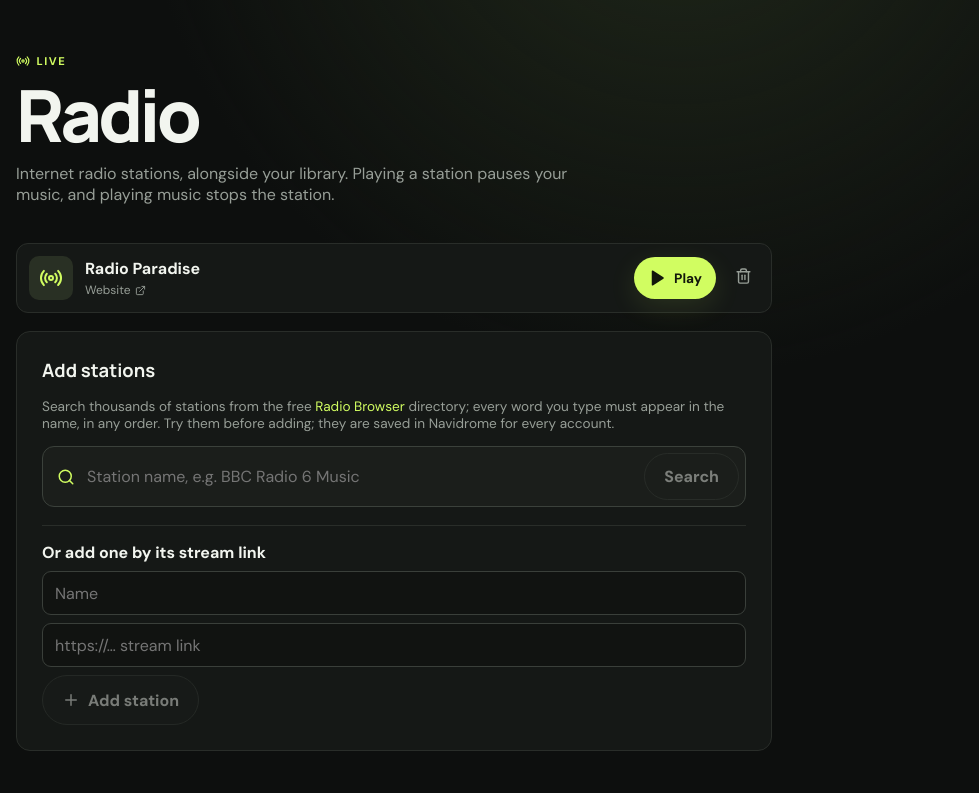
Test case: Radio › refuses plain http links, which browsers block
The image size is (979, 793).
Expected: the text "Radio Paradise" is shown, left=85, top=258, right=200, bottom=279
Type "Old" into the field named "Station name".
click(394, 593); type("Old")  # box left=42, top=571, right=746, bottom=615
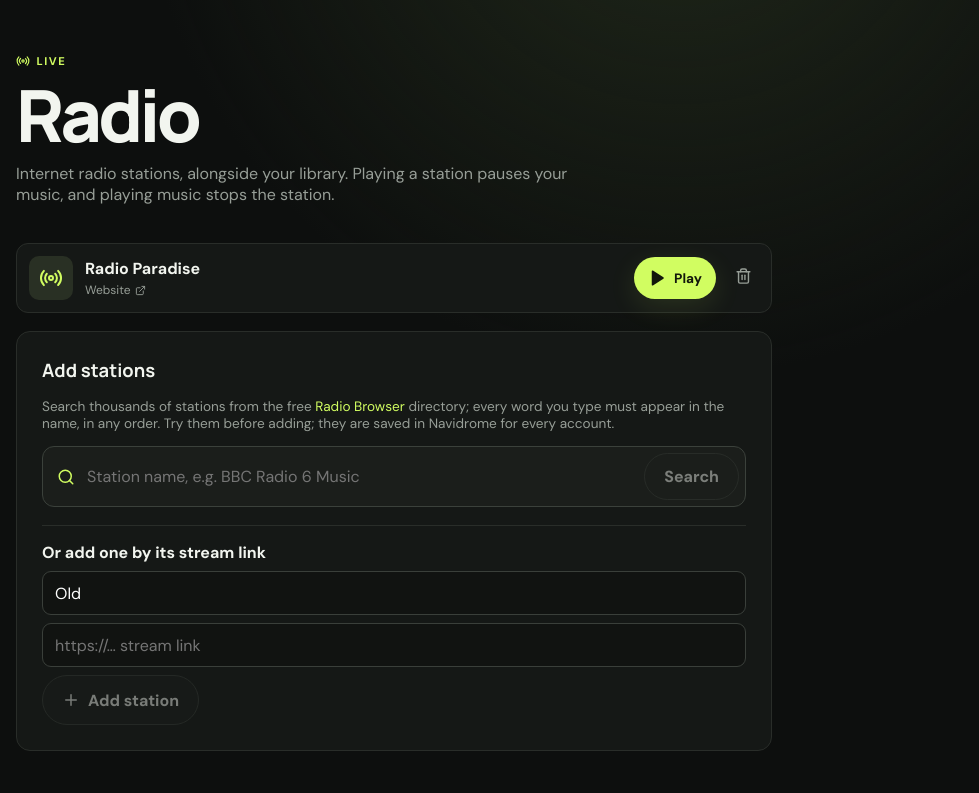
Type "http://old.example/stream" into the field labelled "stream link".
click(394, 645); type("http://old.example/stream")  # box left=42, top=623, right=746, bottom=667
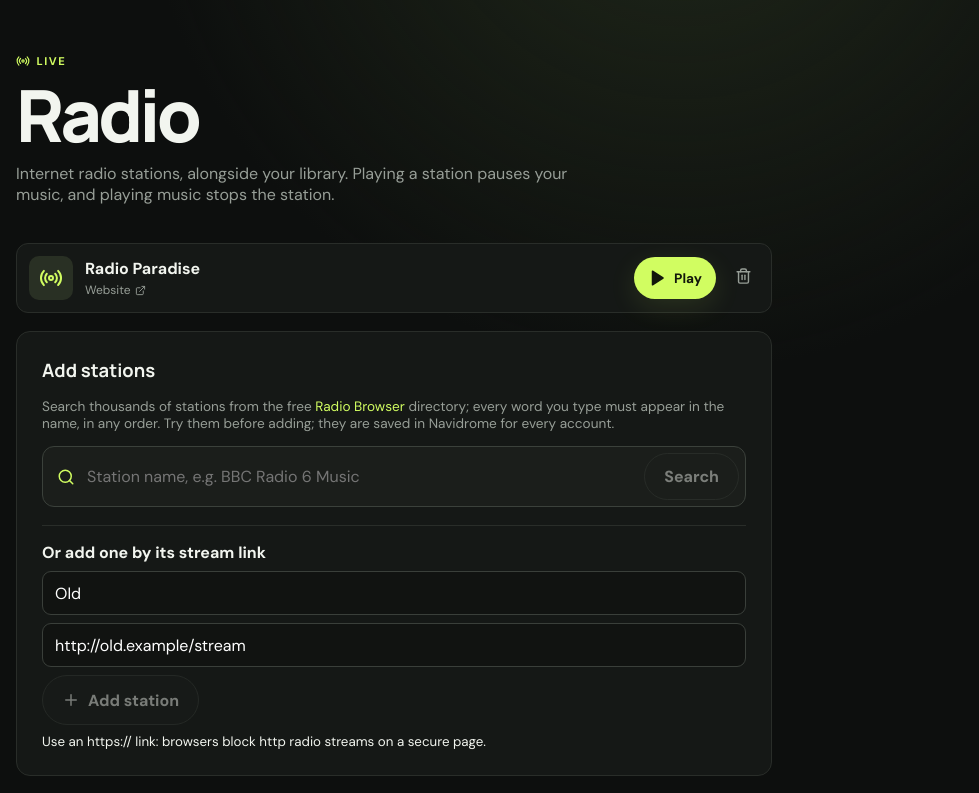
Expected: the button "Add station" is disabled, left=42, top=675, right=199, bottom=725
Result: the text "browsers block http radio streams" is shown at left=42, top=733, right=486, bottom=750
